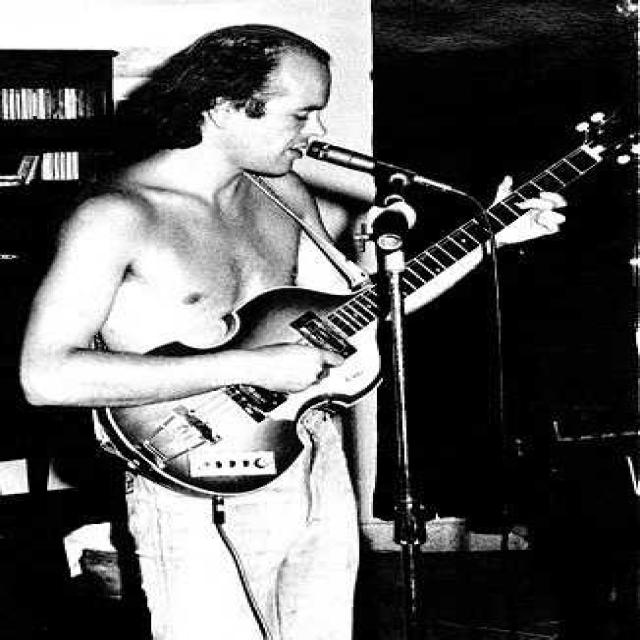microphone: (298, 138, 460, 200)
